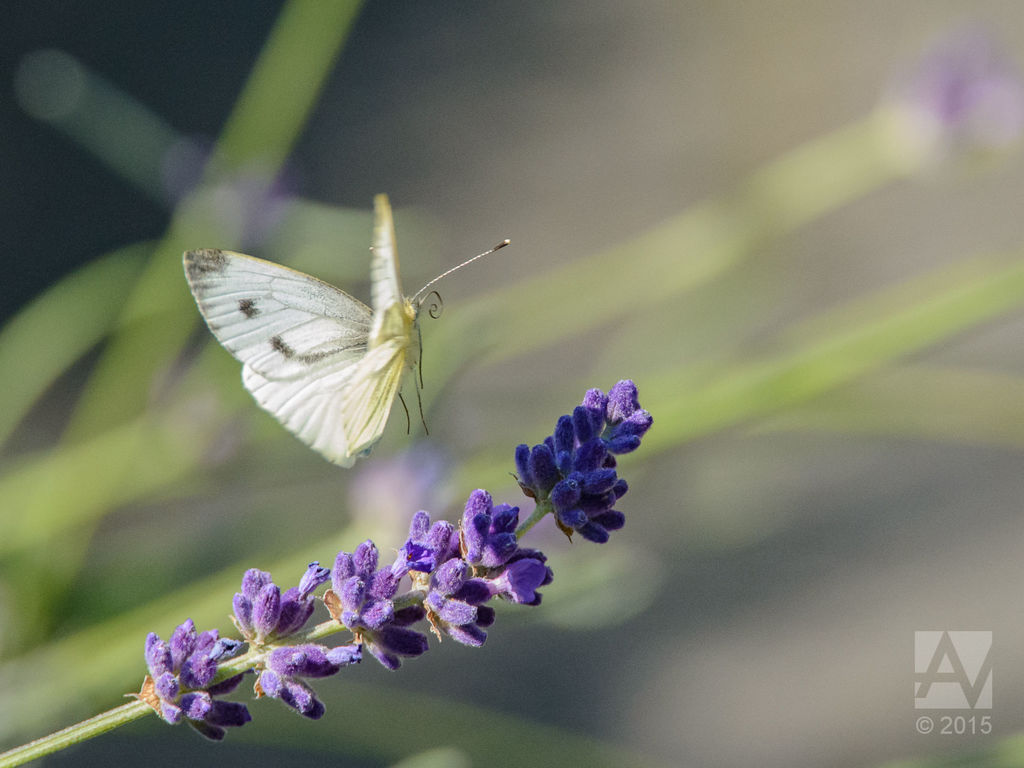Butterfly: (178, 175, 470, 463)
